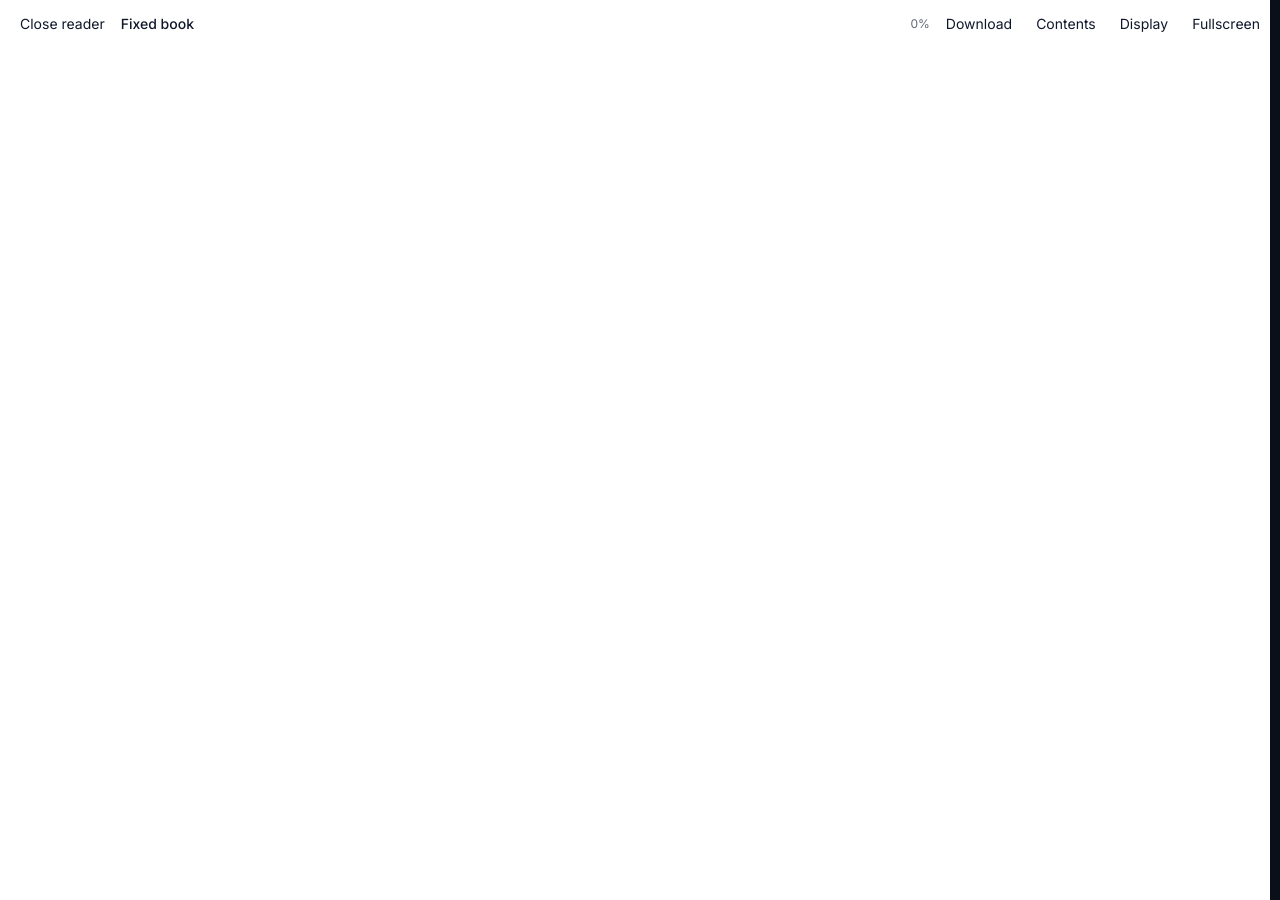
Test: BrowserReader action failures › shows a reader error when table-of-contents navigation fails
The width and height of the screenshot is (1280, 900).
Click the button "Contents": click(1066, 24) x1=1028 y1=8 x2=1104 y2=40
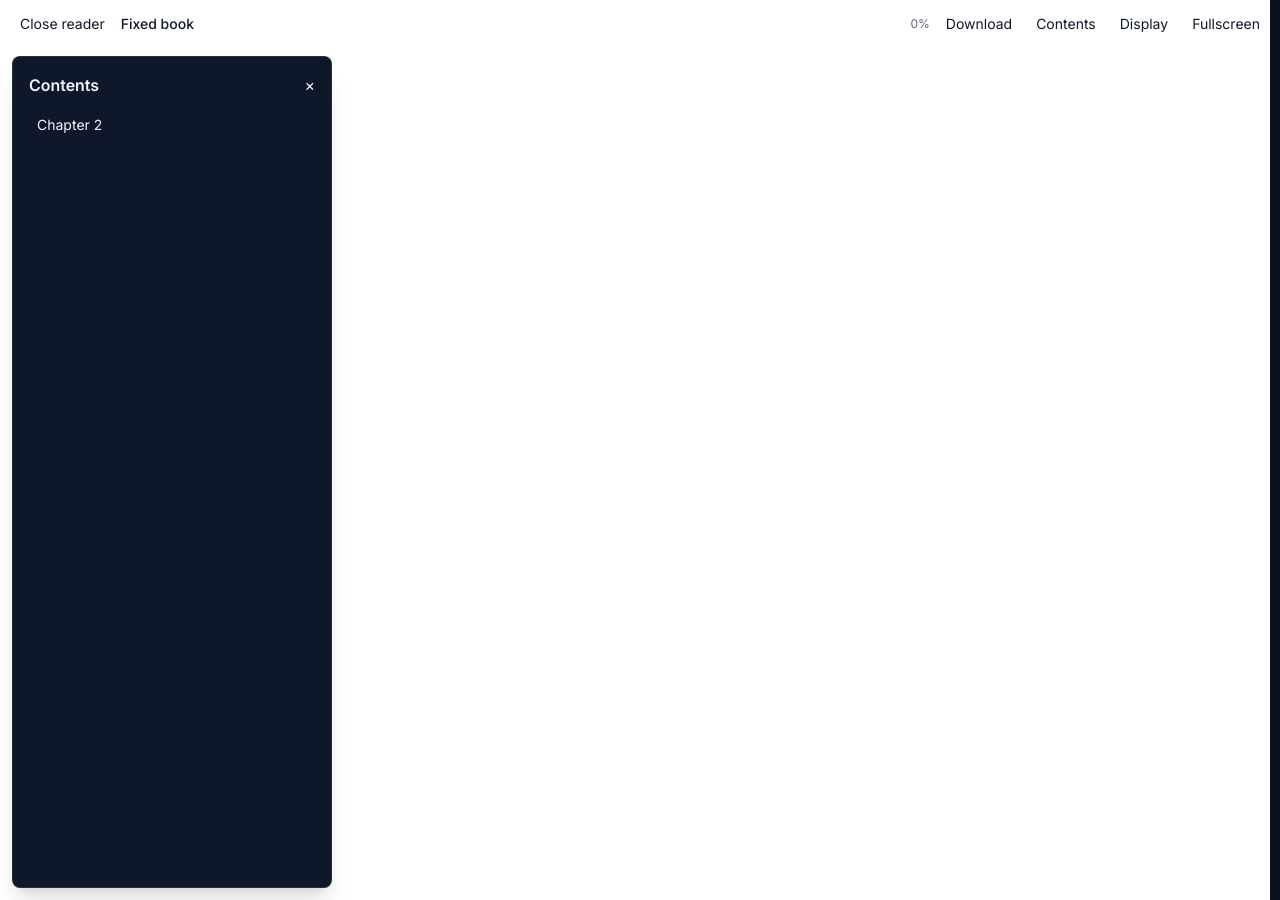
Click the button "Chapter 2": click(70, 124) x1=29 y1=111 x2=315 y2=139
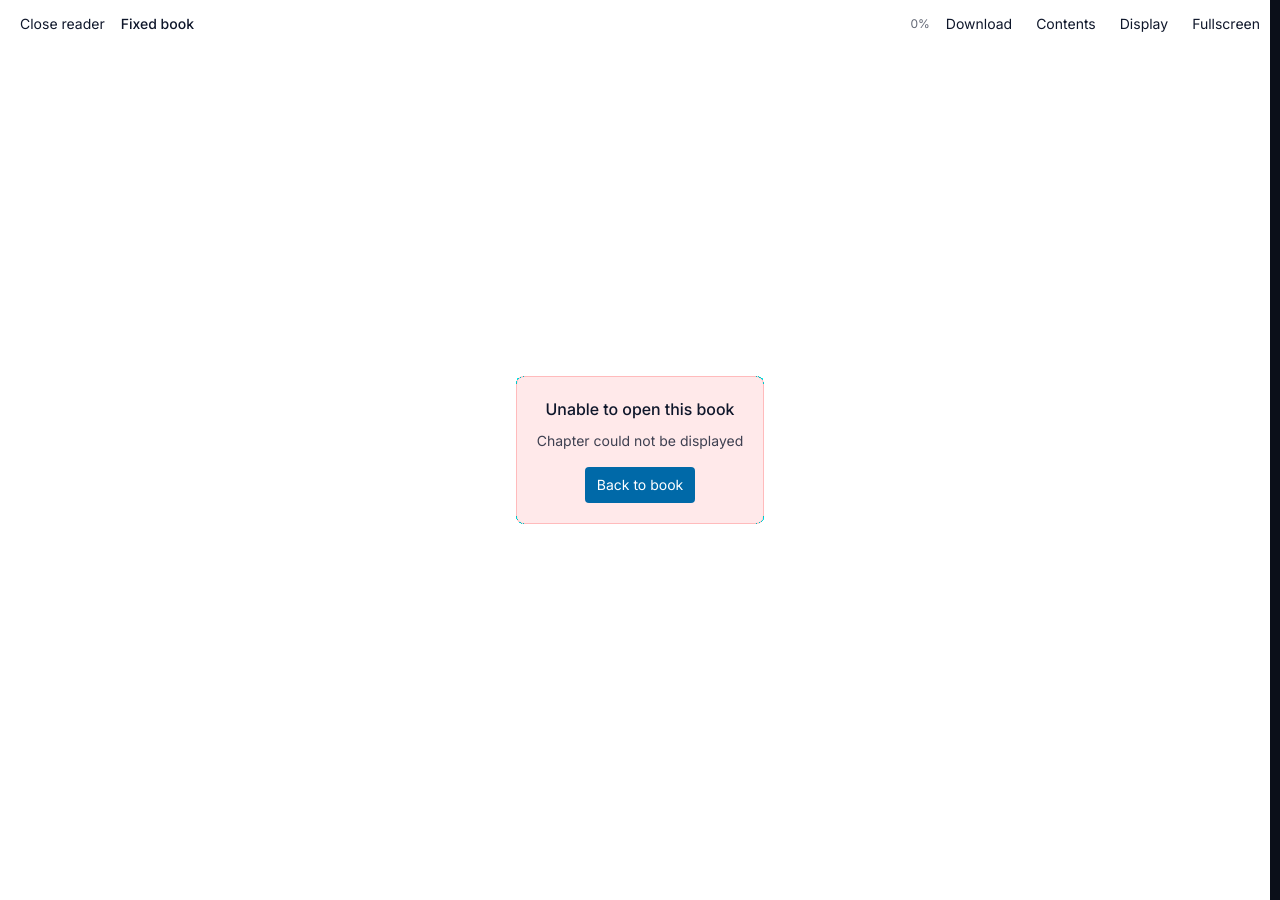
Now the text "Chapter could not be displayed" is shown, box x1=537 y1=431 x2=743 y2=451
